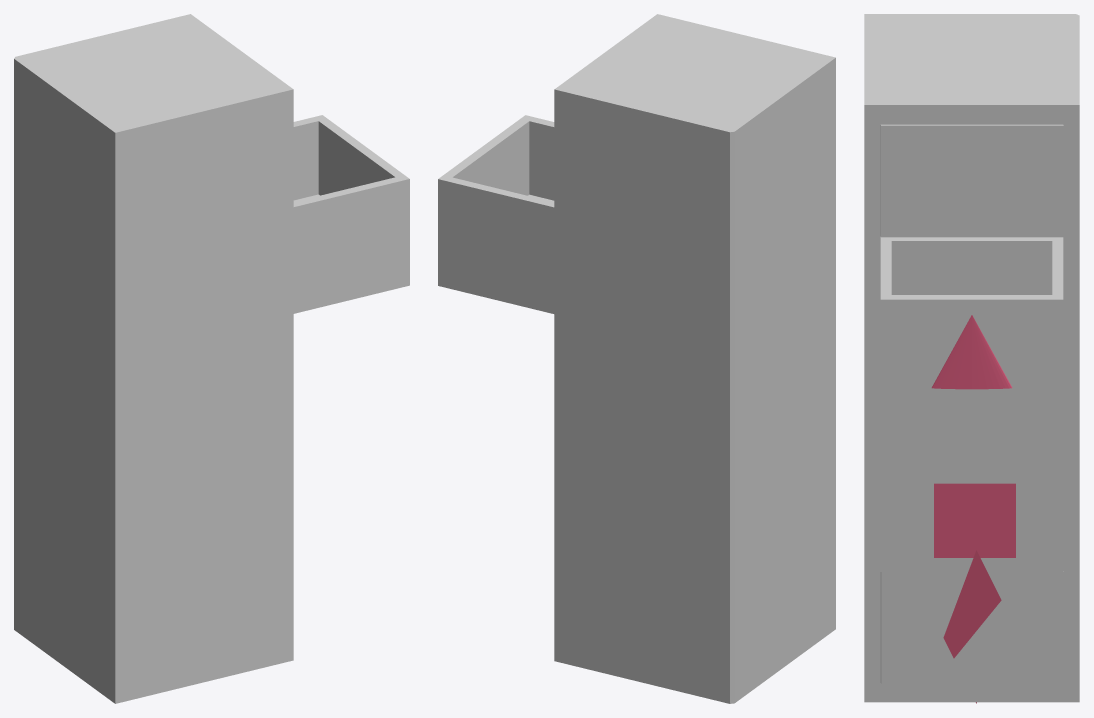
File: Armario.fbx
The picture shows the model from 3 angles, left to right: view 1: azimuth 30°, elevation 25°; view 2: azimuth 150°, elevation 25°; view 3: azimuth 270°, elevation 25°; orthographic projection. The views are drawn at different scales.
Visible parts, largest first — view 1: Cube, Cube.007; view 2: Cube, Cube.007; view 3: Cube, Cube.004, Cube.003, Cube.008, Cube.002, Cube.001, Plane, Cone, Plane.001.
Boxes of the visible parts, x1,y1,x2,y2 form: Cube: (14, 14, 409, 703); Cube.007: (293, 179, 409, 313); Cube: (438, 14, 835, 703); Cube.007: (438, 179, 554, 313); Cube: (864, 14, 1079, 702); Cube.004: (881, 125, 1063, 237); Cube.003: (881, 572, 1063, 683); Cube.008: (880, 299, 1063, 411); Cube.002: (880, 461, 1063, 571); Cube.001: (880, 411, 1063, 460); Plane: (934, 483, 1015, 557); Cone: (931, 315, 1012, 389); Plane.001: (943, 550, 1001, 703).
Size of the model in its own units: 343 by 619 by 200.
